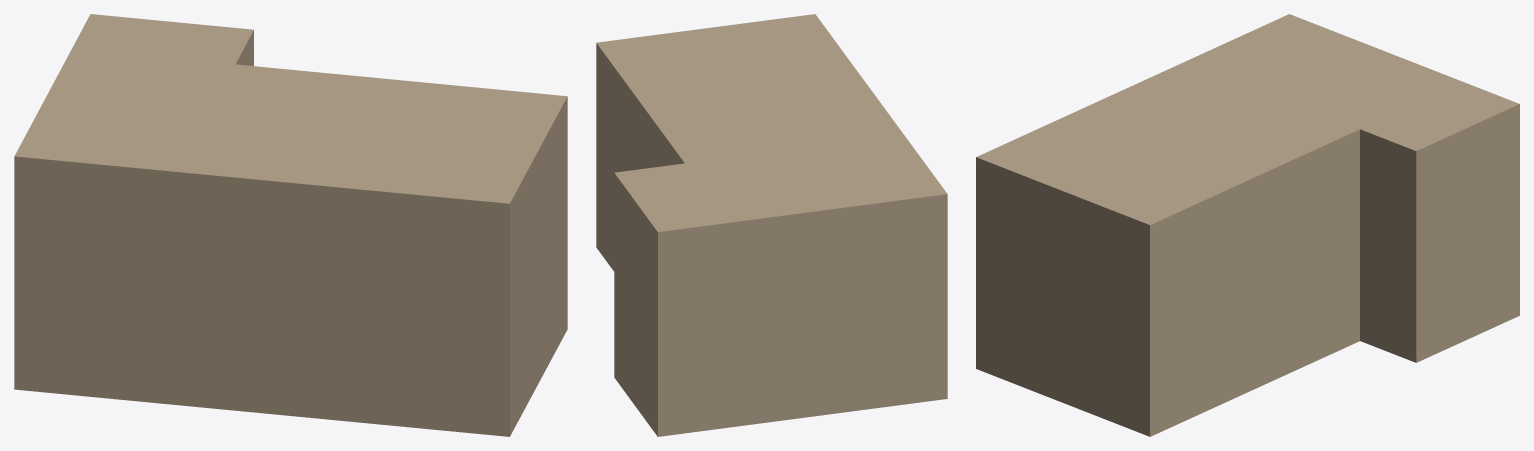
The model's file is bld_101289729.dae.
3 renders of one model, left to right at view 1: azimuth 30°, elevation 25°; view 2: azimuth 150°, elevation 25°; view 3: azimuth 270°, elevation 25°, orthographic. The views are drawn at different scales.
Visible parts, largest first — view 1: bld_101289729; view 2: bld_101289729; view 3: bld_101289729.
Boxes of the visible parts, x1=… form: bld_101289729: x1=14, y1=14, x2=567, y2=436; bld_101289729: x1=596, y1=14, x2=947, y2=436; bld_101289729: x1=976, y1=14, x2=1519, y2=436.
Bounding box in the file's own units: 17.11 × 18.62 × 8.
